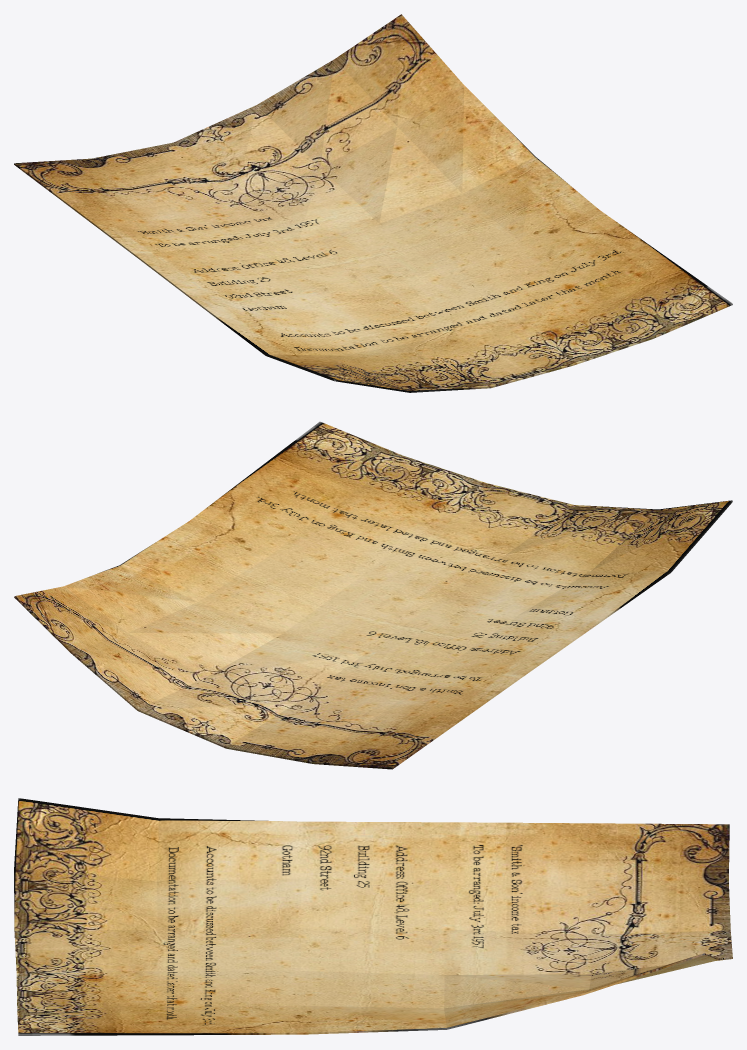
Rendered from paper1_asset.fbx.
3 renders of one model, top to bottom at view 1: azimuth 30°, elevation 25°; view 2: azimuth 150°, elevation 25°; view 3: azimuth 270°, elevation 25°, orthographic. The views are drawn at different scales.
Visible parts, largest first — view 1: paper1; view 2: paper1; view 3: paper1.
Part boxes in pixels (x1,y1,x2,y2): paper1: (14, 14, 732, 392); paper1: (14, 421, 732, 769); paper1: (14, 798, 732, 1035).
Size of the model in its own units: 11.81 by 2.55 by 16.63.
